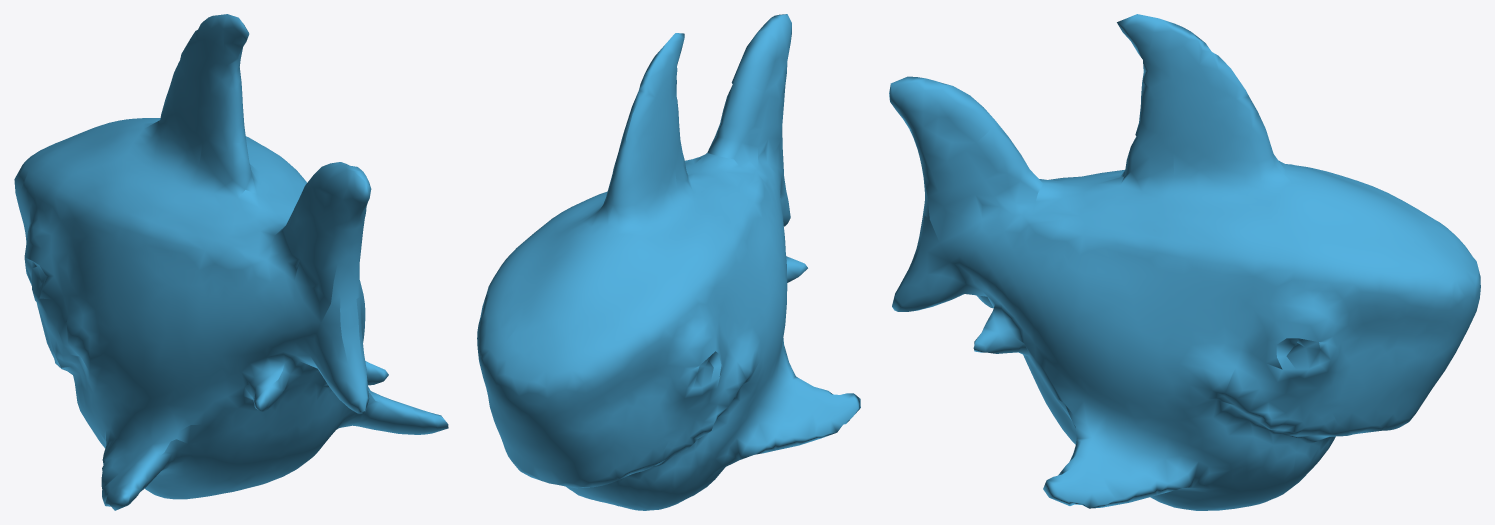
The model's file is TiburonAzul.glb.
3 renders of one model, left to right at view 1: azimuth 30°, elevation 25°; view 2: azimuth 150°, elevation 25°; view 3: azimuth 270°, elevation 25°, orthographic. The views are drawn at different scales.
Visible parts, largest first — view 1: prim0; view 2: prim0; view 3: prim0.
Part boxes in pixels (bbox=[...]): prim0: bbox=[14, 14, 448, 510]; prim0: bbox=[477, 14, 860, 510]; prim0: bbox=[889, 14, 1480, 510].
Size of the model in its own units: 0.6092 by 0.8607 by 0.9672.
